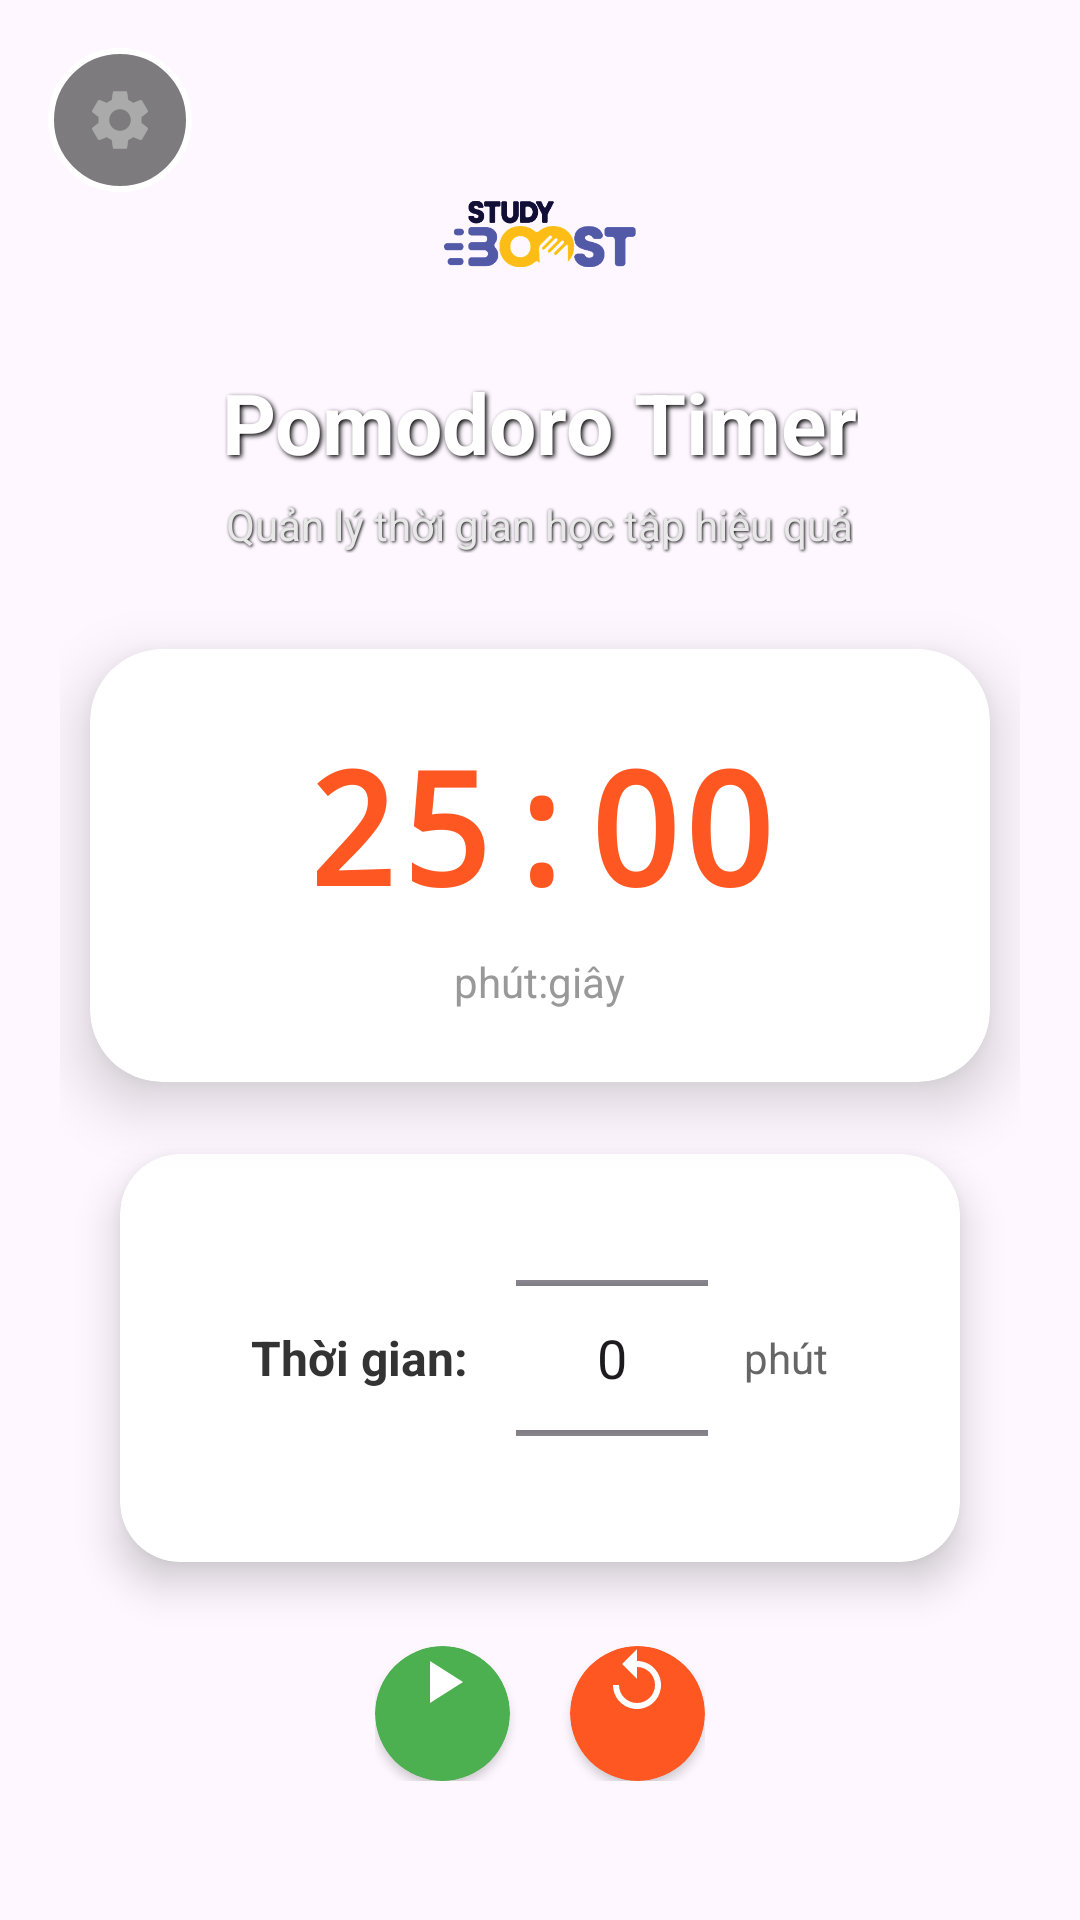

Icon bounding boxes for this 1080 x 1920 phone screenshot, format (x1, y1, x2, y2):
Cài đặt giao diện: (54, 54, 186, 186)
